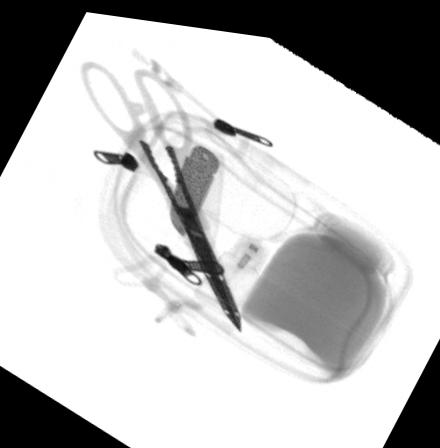Knife: (167, 137, 222, 232)
Scissors: (78, 55, 240, 324)
